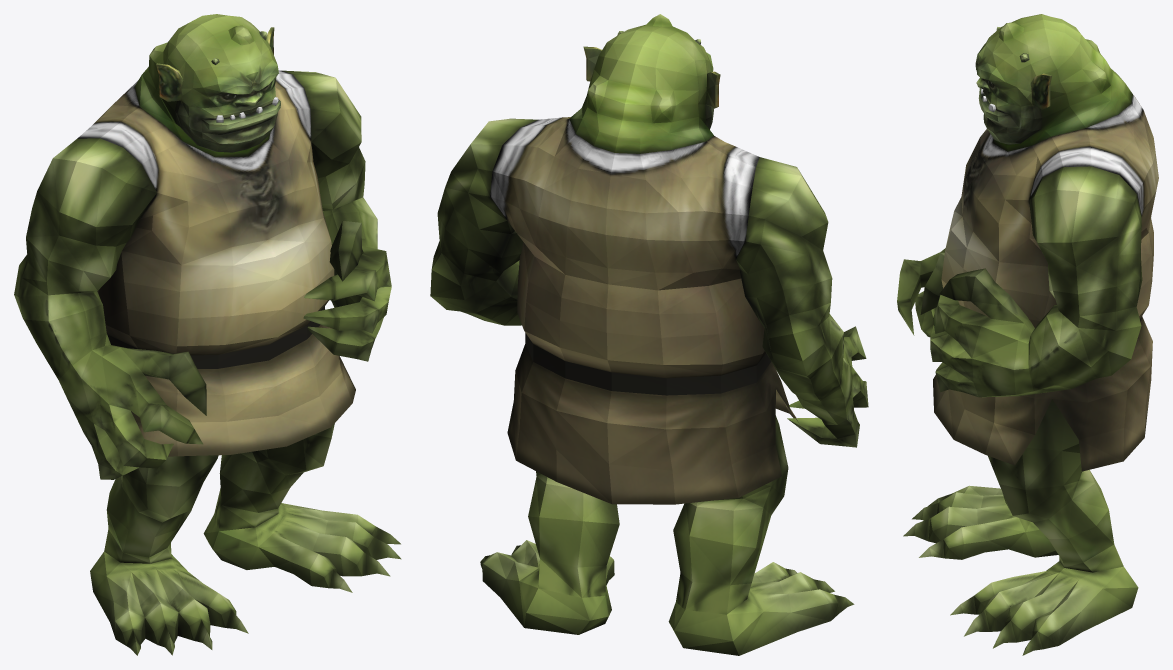
Rendered from Green Ogre.fbx.
3 views of the same model, side by side, from view 1: azimuth 30°, elevation 25°; view 2: azimuth 150°, elevation 25°; view 3: azimuth 270°, elevation 25° (orthographic). The views are drawn at different scales.
Visible parts, largest first — view 1: Body; view 2: Body; view 3: Body.
Part boxes in pixels (x1,y1,x2,y2): Body: (14,14,401,655); Body: (430,14,868,655); Body: (897,14,1158,655).
Bounding box in the file's own units: 977 × 1466 × 628.
Materials: 1 (1 with a texture image).
